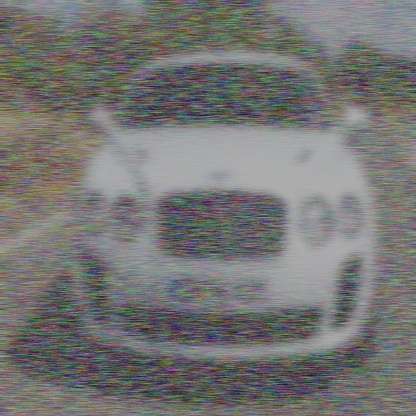Vehicle: (68, 48, 382, 379)
